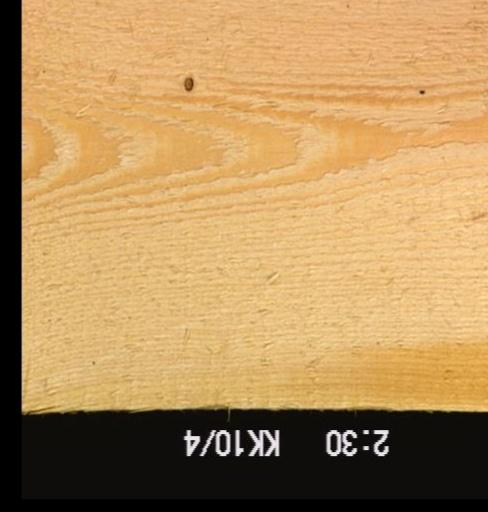dry_knot: (180, 70, 195, 95)
